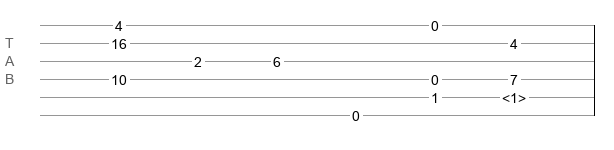0: (352, 108, 360, 118), (431, 72, 439, 82), (431, 18, 439, 28)
1: (431, 90, 439, 100)
10: (111, 72, 127, 82)
16: (111, 36, 127, 46)
2: (194, 54, 202, 64)
4: (115, 18, 123, 28), (510, 36, 518, 46)
6: (273, 54, 281, 64)
7: (510, 72, 518, 82)
harmonic: (502, 90, 526, 100)
